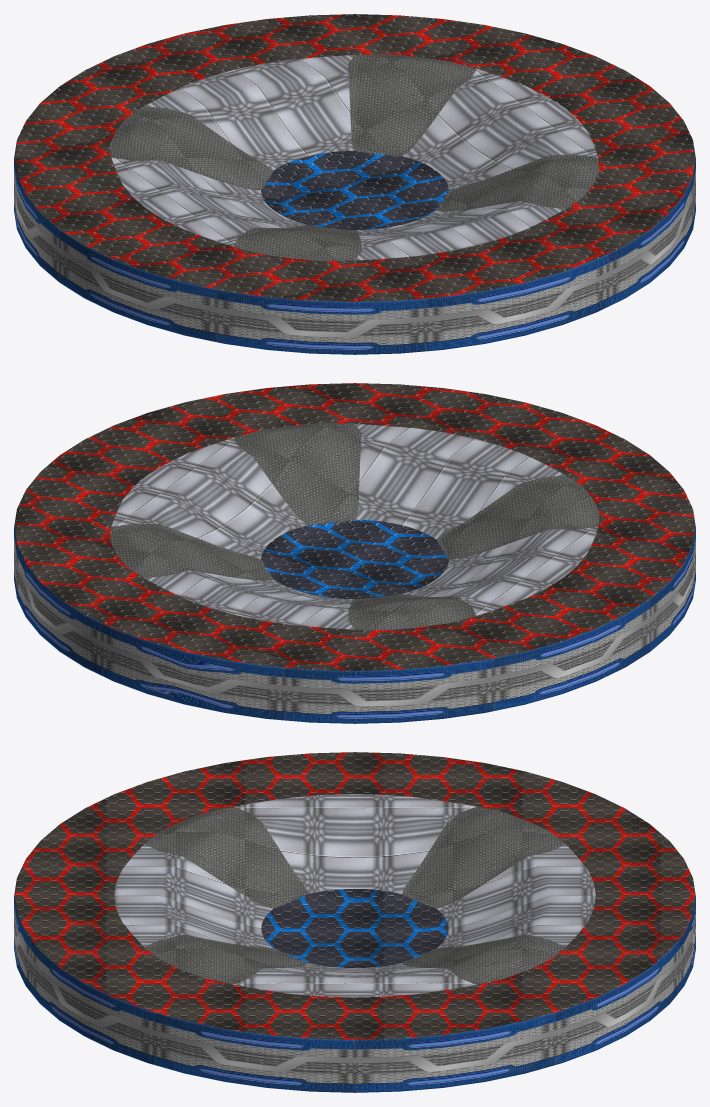
Rendered from New_Pizza_Arena.fbx.
3 renders of one model, top to bottom at view 1: azimuth 30°, elevation 25°; view 2: azimuth 150°, elevation 25°; view 3: azimuth 270°, elevation 25°, orthographic.
Visible parts, largest first — view 1: Main_Arena_V012; view 2: Main_Arena_V012; view 3: Main_Arena_V012.
Part boxes in pixels (x1=…): Main_Arena_V012: x1=14, y1=14, x2=695, y2=354; Main_Arena_V012: x1=14, y1=383, x2=695, y2=723; Main_Arena_V012: x1=14, y1=752, x2=695, y2=1092.
Bounding box in the file's own units: 8902 × 855 × 8902.
